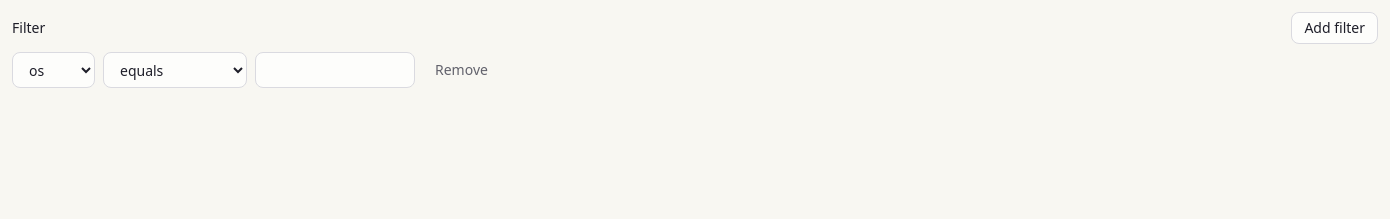
Test: FilterRows value combobox › reopens the listbox on a click after it was dismissed with Escape
Click the 3rd dropdown named "Filter value 1" at (335, 70), box x1=255 y1=52 x2=415 y2=88
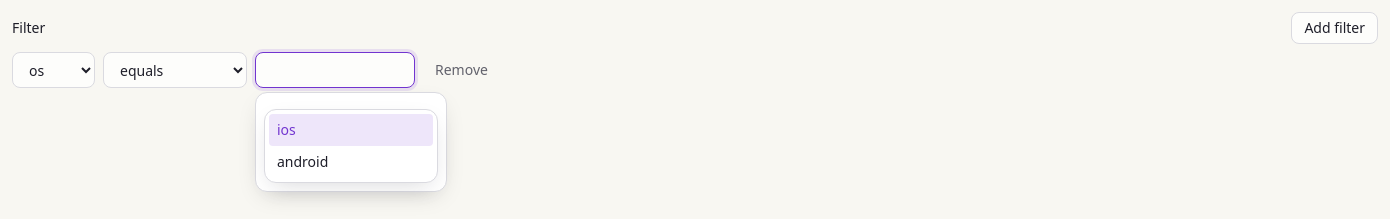
Now the list is shown, box x1=264 y1=109 x2=438 y2=183
Press Escape
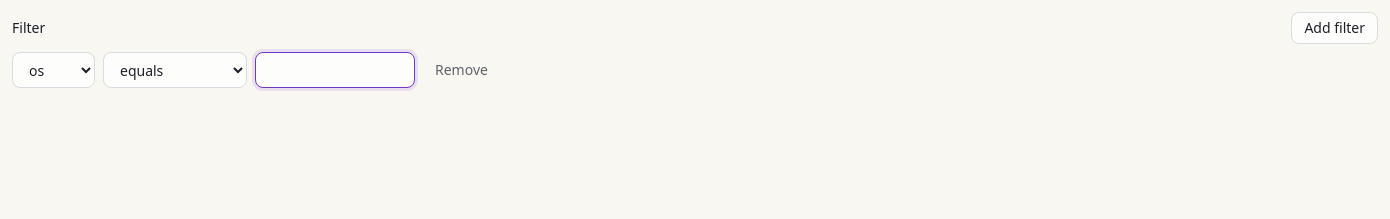
Now the list "ios android" is gone
Click the 3rd dropdown named "Filter value 1" at (335, 70), box x1=255 y1=52 x2=415 y2=88
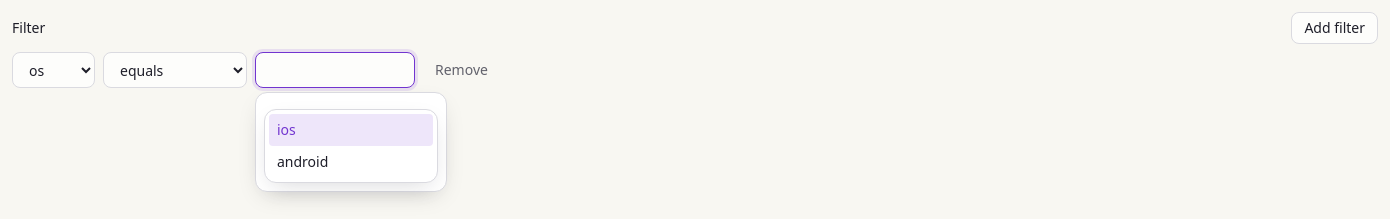
Now the list is shown, box x1=264 y1=109 x2=438 y2=183
